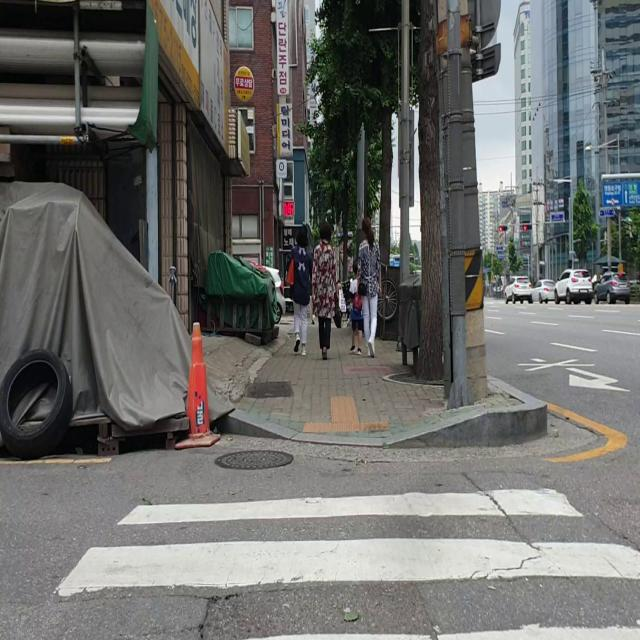횡단보도: (49, 484, 640, 640)
